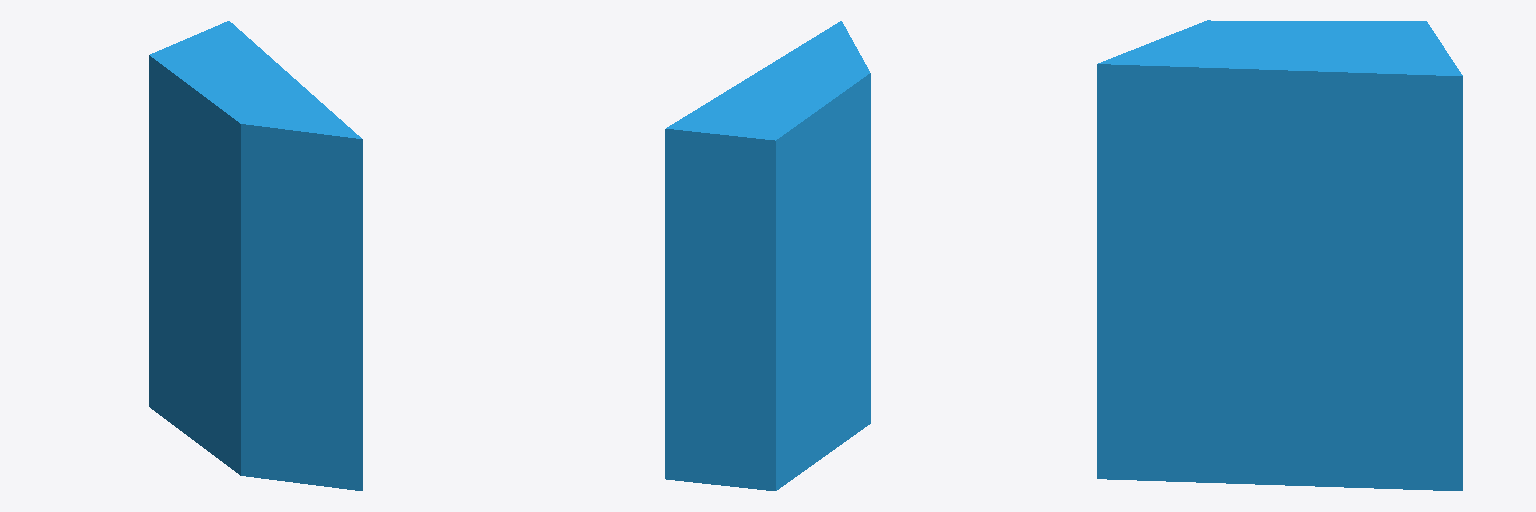
robot.urdf — quad_prism_1:
<?xml version="1.0" ?>
<robot name="quad_prism_1">
  <link name="base_link">
    <visual>
      <origin xyz="0 0 0" rpy="0 0 0"/>
      <geometry>
        <mesh filename="quad_prism_1.stl"/>
      </geometry>
      <material name="color">
        <color rgba="0.2271640951086238 0.7162114820392707 0.9819018340716127 1.0"/>
      </material>
    </visual>
    <collision>
      <origin xyz="0 0 0" rpy="0 0 0"/>
      <geometry>
        <mesh filename="quad_prism_1.stl"/>
      </geometry>
    </collision>
    <inertial>
      <origin xyz="0 0 0" rpy="0 0 0"/>
      <mass value="1.0"/>
      <inertia ixx="0.1" ixy="0" ixz="0" iyy="0.1" iyz="0" izz="0.1"/>
    </inertial>
  </link>
</robot>

--- Render facts (derived) ---
3 views of the same robot in one strip: view 1: azimuth 30°, elevation 25°; view 2: azimuth 150°, elevation 25°; view 3: azimuth 270°, elevation 25° (orthographic).
Model quad_prism_1 with 1 links and 0 joints (none), rooted at base_link, posed every joint at zero.
Links seen in each view (by area): view 1: base_link; view 2: base_link; view 3: base_link.
Link boxes in pixels (box(x1,y1,x2,y2)): base_link: box(149, 21, 362, 490); base_link: box(665, 21, 870, 490); base_link: box(1097, 20, 1462, 490).
Bounding box of the posed robot: 0.8667 × 2.4 × 3 m (x, y, z).
Meshes: 1 distinct files referenced, 1 mesh visuals loaded (1 binary STL).